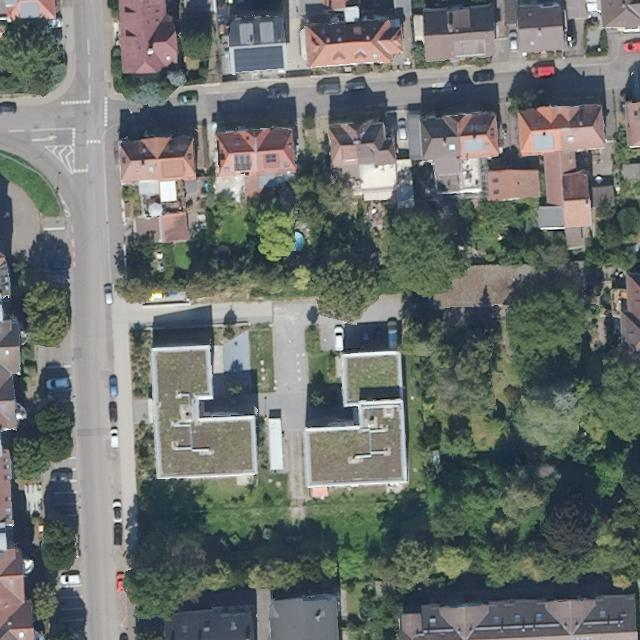PV: (233, 43, 287, 75), (232, 153, 253, 174)
